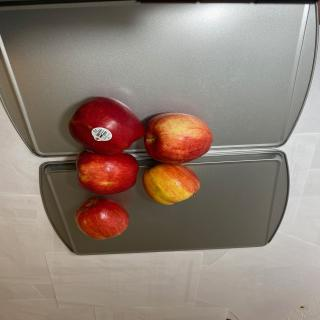Apple: (68, 96, 145, 155), (144, 112, 213, 164), (76, 150, 139, 194), (142, 163, 200, 205), (74, 197, 130, 240)
